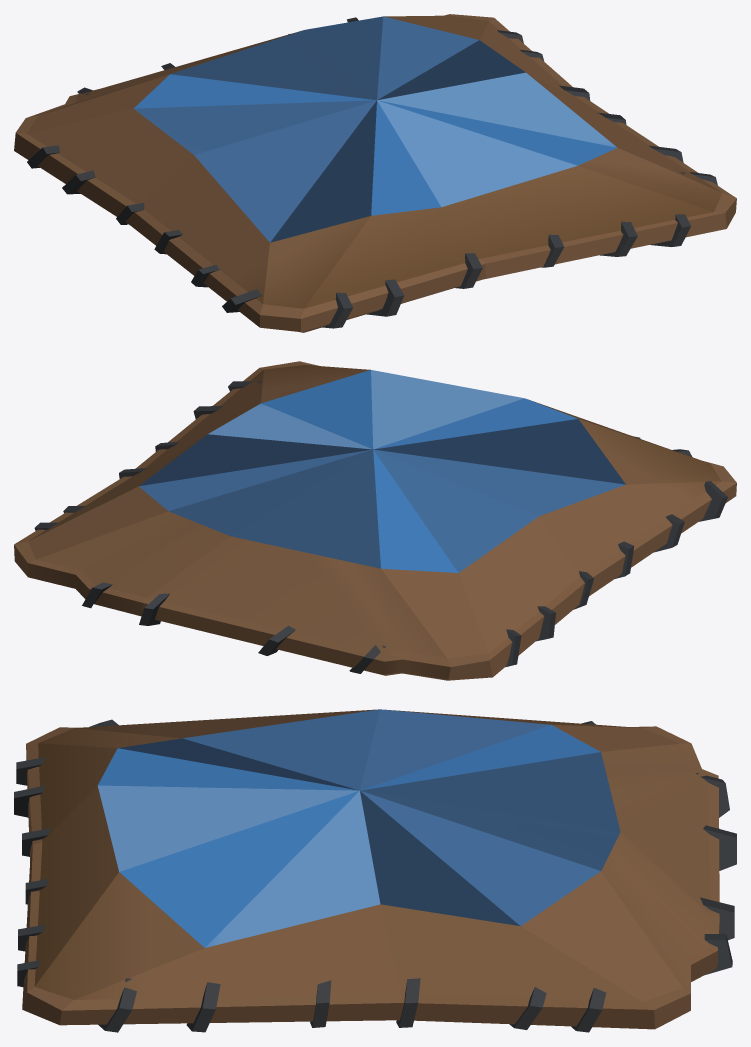
File: SM_Prop_Pillow_08.fbx
3 renders of one model, top to bottom at view 1: azimuth 30°, elevation 25°; view 2: azimuth 150°, elevation 25°; view 3: azimuth 270°, elevation 25°, orthographic. The views are drawn at different scales.
Visible parts, largest first — view 1: SM_Prop_Pillow_08; view 2: SM_Prop_Pillow_08; view 3: SM_Prop_Pillow_08.
Boxes of the visible parts, bbox=[...] form: SM_Prop_Pillow_08: bbox=[14, 14, 736, 332]; SM_Prop_Pillow_08: bbox=[14, 361, 736, 680]; SM_Prop_Pillow_08: bbox=[14, 709, 736, 1032].
Size of the model in its own units: 0.608 by 0.1198 by 0.6434.
1 material, 1 textured.
